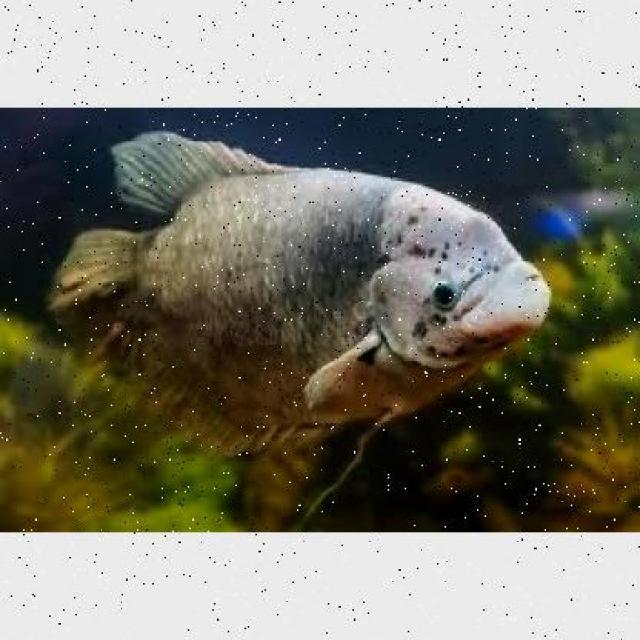gurame: (60, 132, 549, 460)
